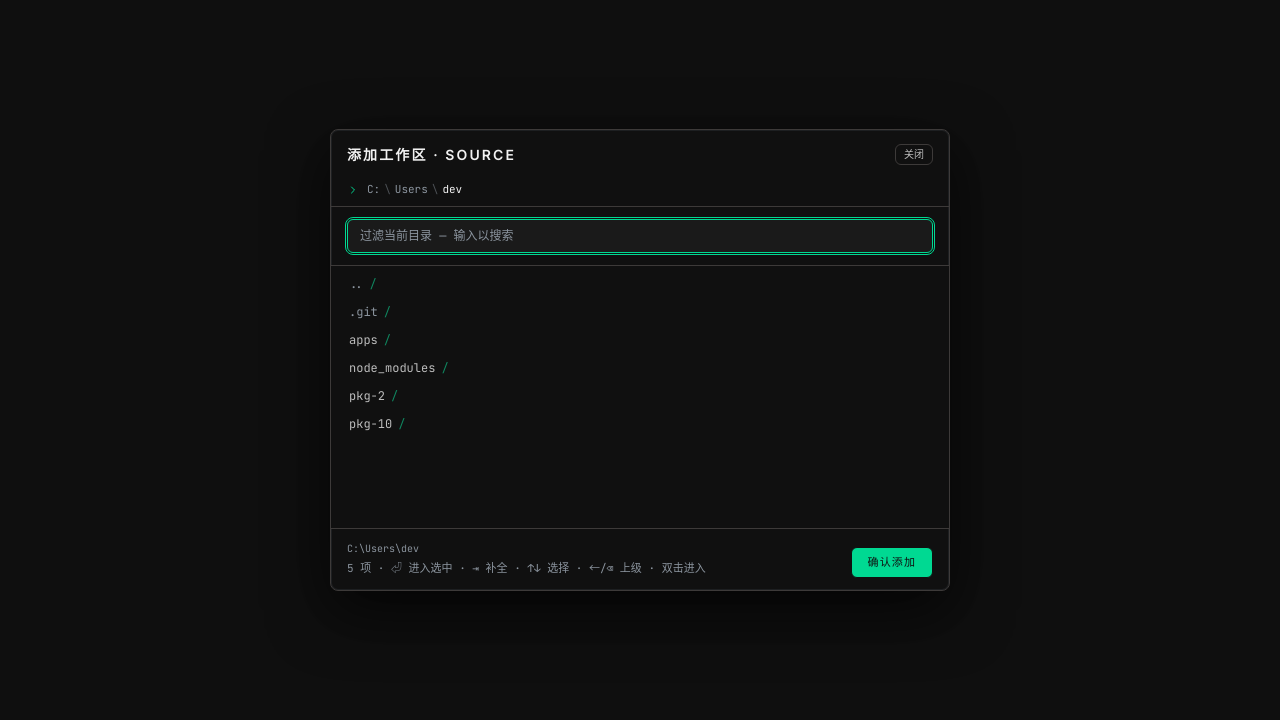
Scenario: WorkspacePickerModal › Tab 把查询补全为前缀匹配的目录名
In the field with placeholder "过滤当前目录 — 输入以搜索": (640, 236) [347,219,933,253], type "node_mod"
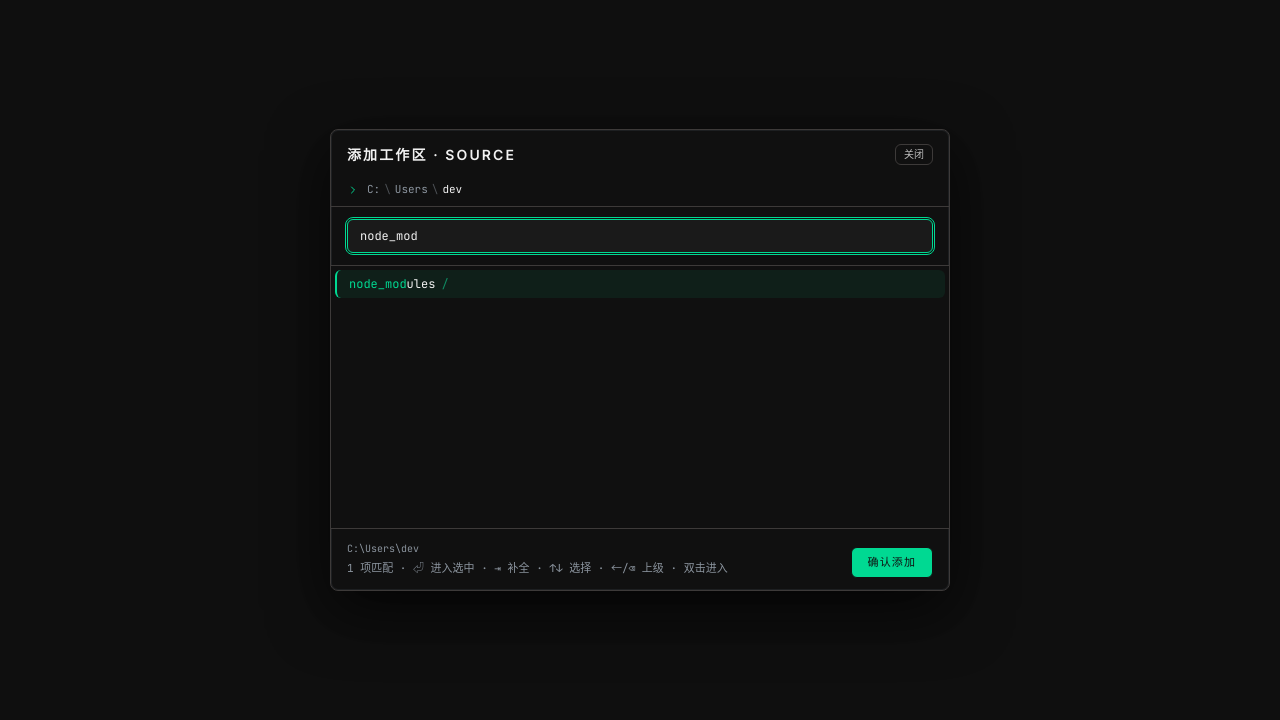
Press Tab in the field, box [347,219,933,253]
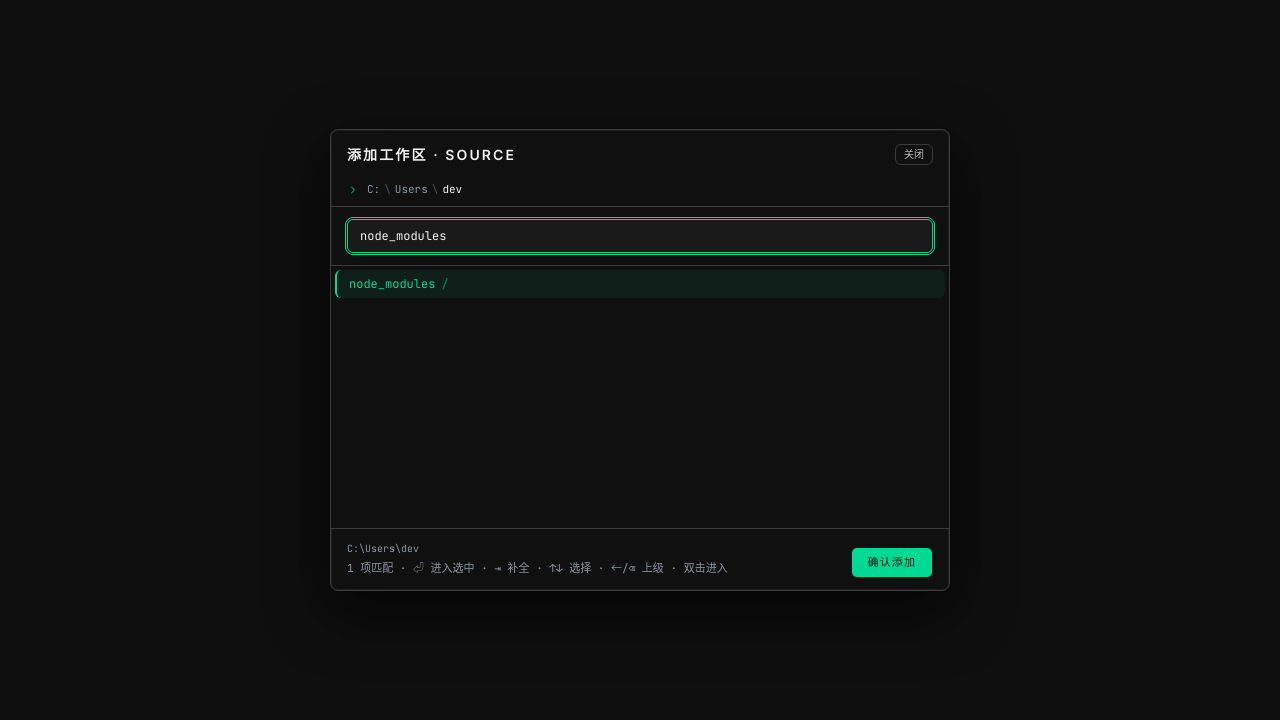
Now the field holds "node_modules", box [347,219,933,253]
